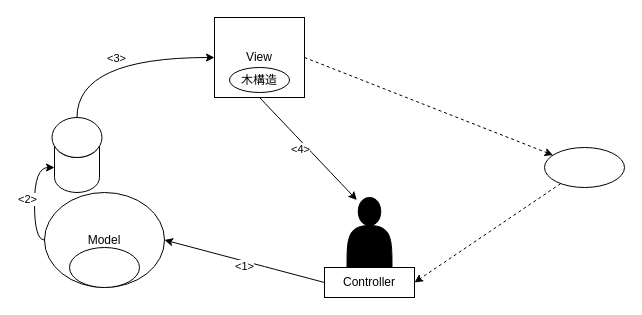
Some shapes in this 642 by 315 pixel diagram are drawn without their labels. The box of each missing label's shape, as (x1, y1, x2, y2) in pixels:
User: (544, 146, 624, 188)
テキスト: (68, 246, 140, 288)
